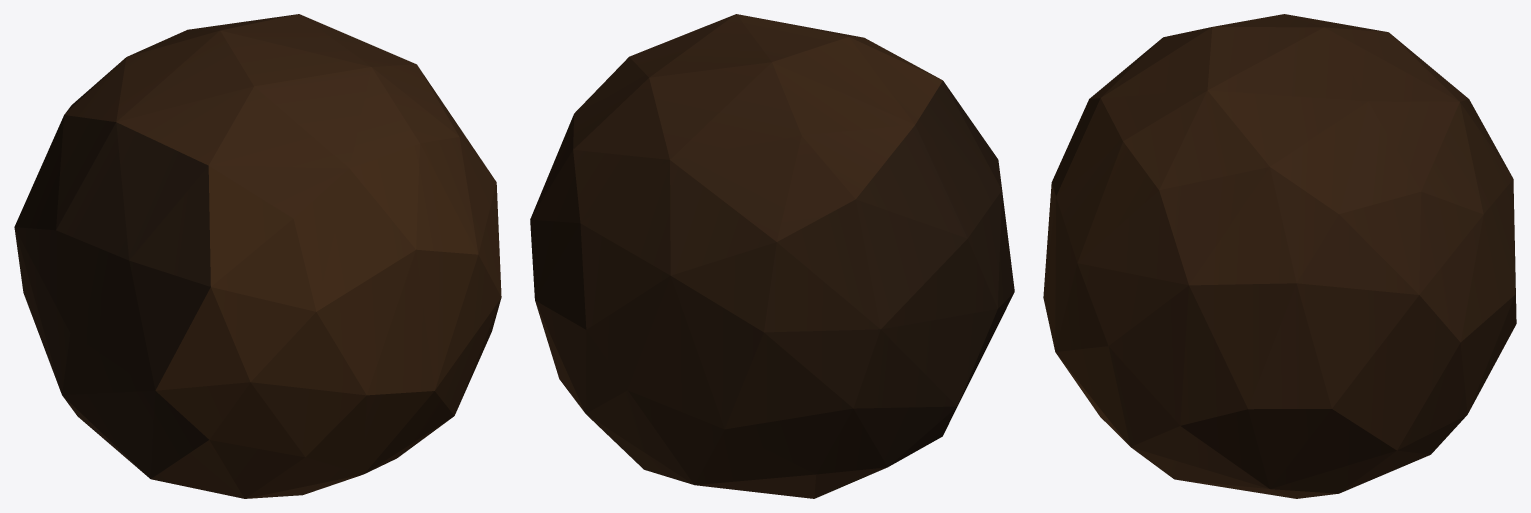
The model's file is Cocos.fbx.
The picture shows the model from 3 angles, left to right: view 1: azimuth 30°, elevation 25°; view 2: azimuth 150°, elevation 25°; view 3: azimuth 270°, elevation 25°; orthographic projection.
Parts seen in each view (by area): view 1: Cube; view 2: Cube; view 3: Cube.
Boxes of the visible parts, <box> form: Cube: <box>14,14,501,498</box>; Cube: <box>530,14,1014,498</box>; Cube: <box>1043,14,1516,498</box>.
Size of the model in its own units: 34.66 by 35.02 by 34.34.
